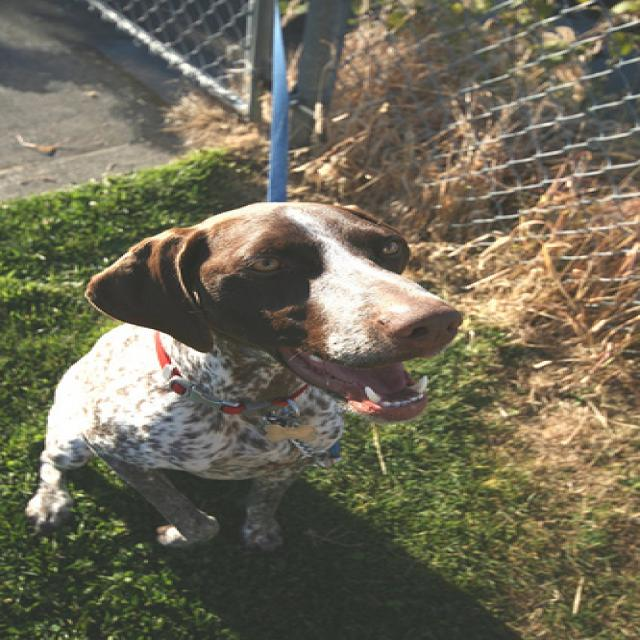dog-german_shorthaired: (6, 195, 469, 554)
